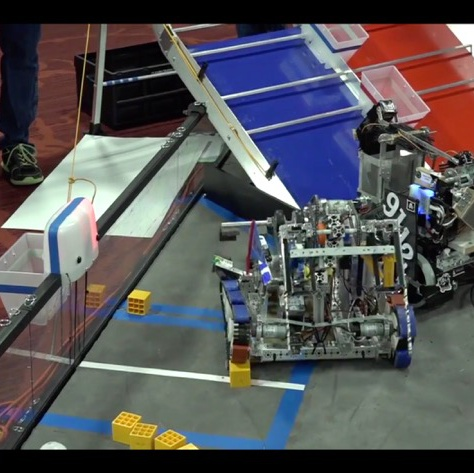robot: (214, 198, 424, 373), (352, 96, 474, 312)
